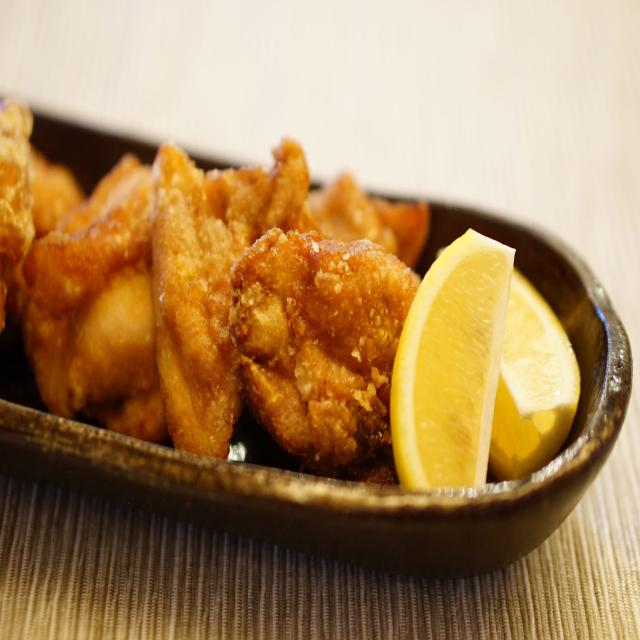Frango: (0, 89, 390, 487)
